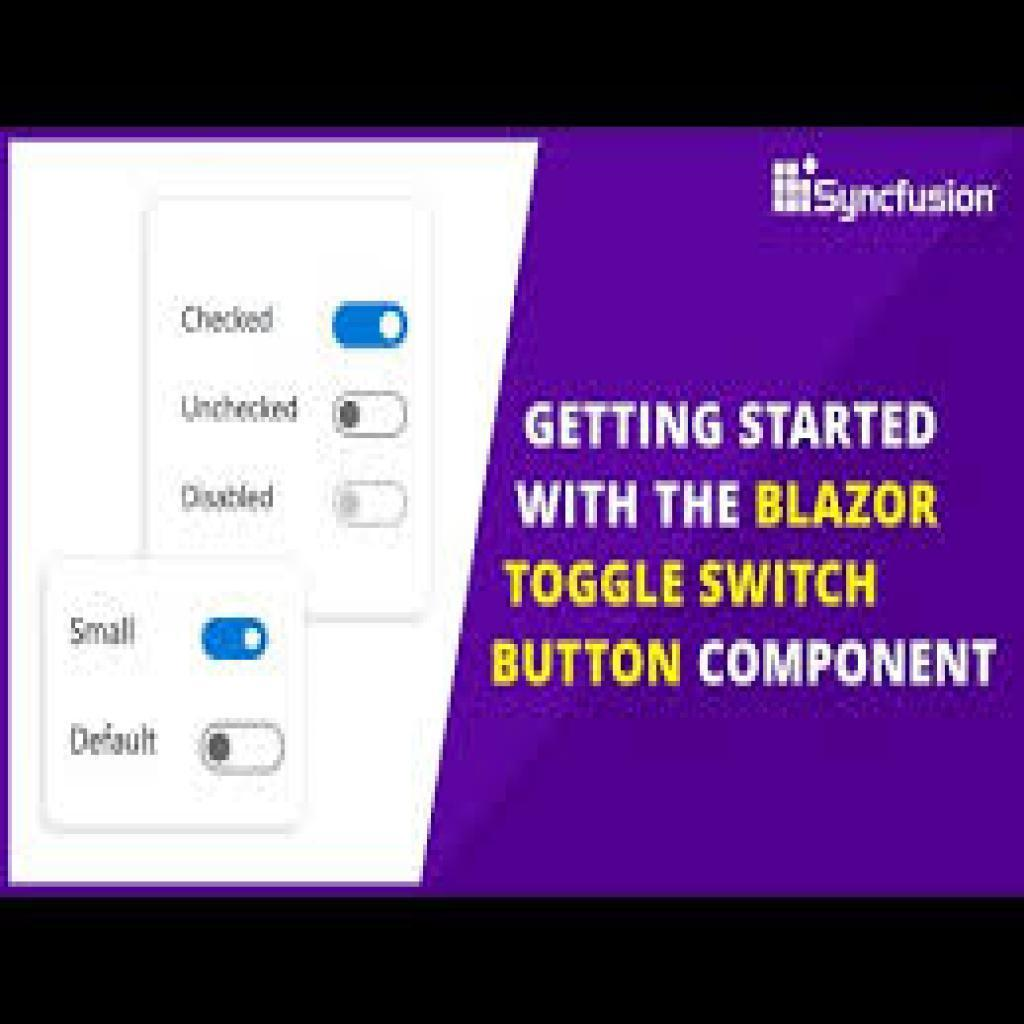label: (182, 388, 307, 427), (177, 298, 285, 342), (67, 720, 161, 761), (182, 478, 277, 516), (65, 614, 147, 656)
switch: (202, 724, 288, 778), (332, 483, 412, 529), (333, 303, 408, 350), (336, 394, 410, 441), (203, 620, 272, 663)
